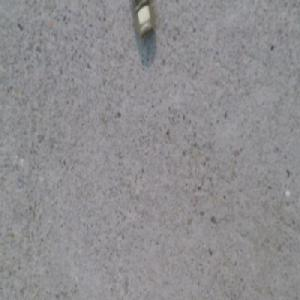BoltNutSet: (133, 1, 153, 39)
